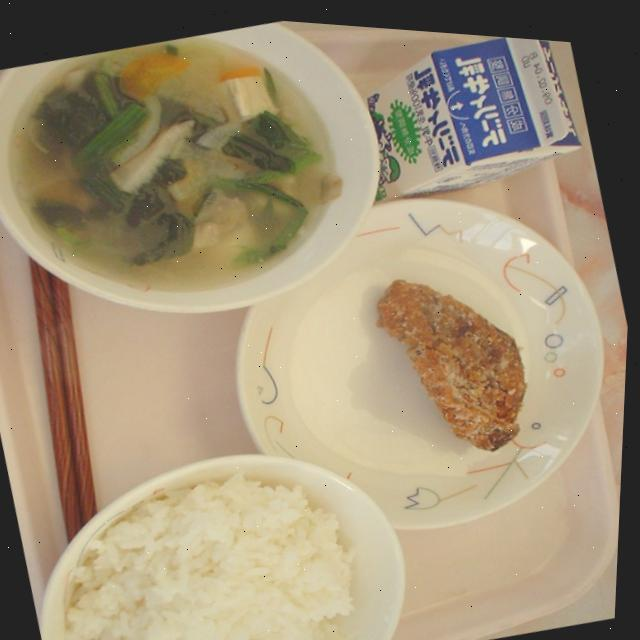炸货点心: (209, 141, 636, 591)
米饭主食: (11, 406, 431, 640)
